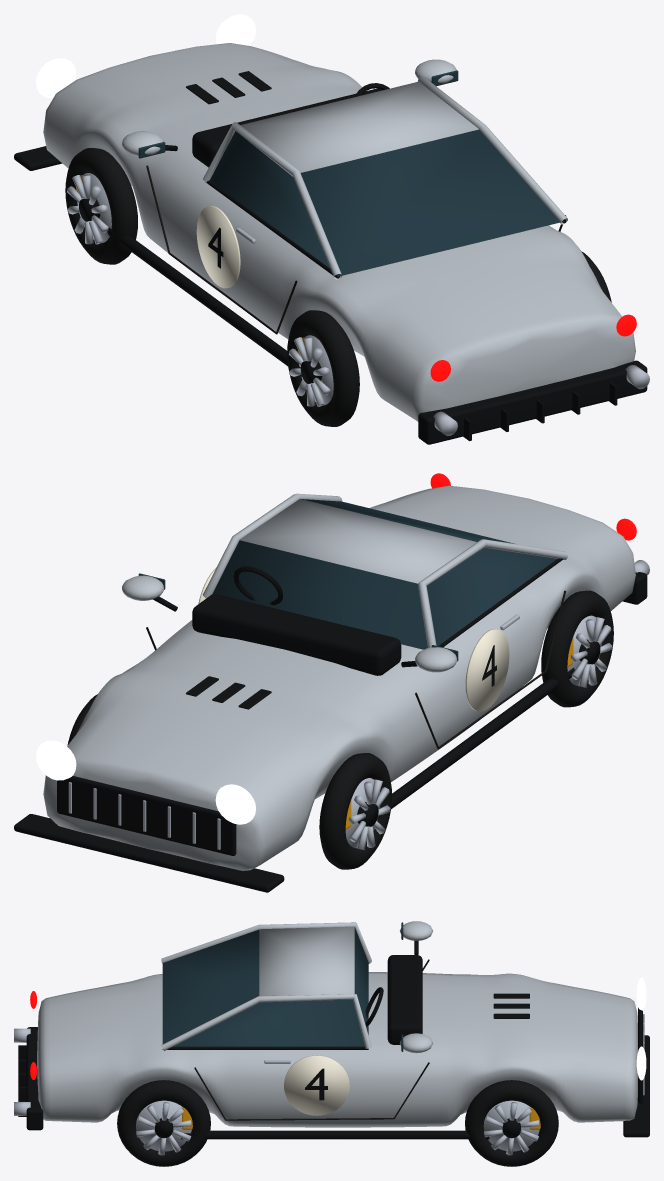
The model's file is heritage-gt.glb.
3 renders of one model, top to bottom at view 1: azimuth 30°, elevation 25°; view 2: azimuth 150°, elevation 25°; view 3: azimuth 270°, elevation 25°, orthographic. The views are drawn at different scales.
Visible parts, largest first — view 1: Surface_Paint, Surface_Glazing, Surface_Carbon, Tire, Tire.001, Surface_Race_roundel, Surface_Headlights, Rim_lip, Rim_lip.001, Surface_Alloy, Surface_Panel_seams, Surface_Tailights; view 2: Surface_Paint, Surface_Carbon, Surface_Glazing, Tire.001, Tire, Surface_Race_roundel, Surface_Headlights, Rim_lip.001, Rim_lip, Surface_Alloy, Surface_Panel_seams; view 3: Surface_Paint, Surface_Glazing, Surface_Carbon, Tire.002, Tire.003, Surface_Race_roundel, Rim_lip.003, Rim_lip.002, Surface_Panel_seams, Surface_Alloy, Surface_Headlights.
Boxes of the visible parts, x1,y1,x2,y2 form: Surface_Paint: [43, 43, 635, 421]; Surface_Glazing: [138, 70, 564, 276]; Surface_Carbon: [14, 71, 647, 444]; Tire: [287, 310, 359, 426]; Tire.001: [65, 148, 137, 264]; Surface_Race_roundel: [196, 206, 240, 288]; Surface_Headlights: [36, 14, 255, 98]; Rim_lip: [288, 335, 333, 406]; Rim_lip.001: [67, 173, 111, 244]; Surface_Alloy: [236, 228, 649, 435]; Surface_Panel_seams: [146, 165, 565, 334]; Surface_Tailights: [430, 314, 636, 381]; Surface_Paint: [43, 485, 635, 870]; Surface_Carbon: [14, 558, 647, 892]; Surface_Glazing: [138, 499, 557, 661]; Tire.001: [319, 753, 391, 869]; Tire: [541, 590, 613, 707]; Surface_Race_roundel: [198, 567, 509, 711]; Surface_Headlights: [36, 740, 255, 824]; Rim_lip.001: [345, 778, 390, 850]; Rim_lip: [567, 615, 612, 687]; Surface_Alloy: [68, 560, 649, 849]; Surface_Panel_seams: [146, 590, 566, 749]; Surface_Paint: [37, 921, 637, 1127]; Surface_Glazing: [162, 922, 403, 1051]; Surface_Carbon: [18, 940, 649, 1139]; Tire.002: [117, 1080, 210, 1166]; Tire.003: [465, 1080, 558, 1166]; Surface_Race_roundel: [284, 1055, 349, 1115]; Rim_lip.003: [483, 1100, 539, 1155]; Rim_lip.002: [136, 1100, 191, 1155]; Surface_Panel_seams: [194, 959, 429, 1120]; Surface_Alloy: [14, 1013, 644, 1115]; Surface_Headlights: [636, 977, 646, 1080].
Size of the model in its own units: 2.13 by 1.27 by 4.54.
